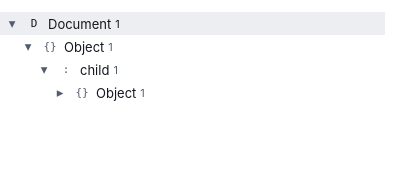
Test case: Tree expansion survives a same-document reparse (M5g-PLAN.md O4) › keeps a manually expanded node visible when store changes but filePath does not
The image size is (402, 172).
Press the mouse on the button with class "tree-row-disclosure" showing "▸" at coordinates (60, 92), box [52,84,68,100]
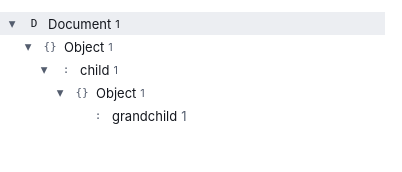
Now the list item with id "tree-row-4" is shown, box [95,108,186,124]
